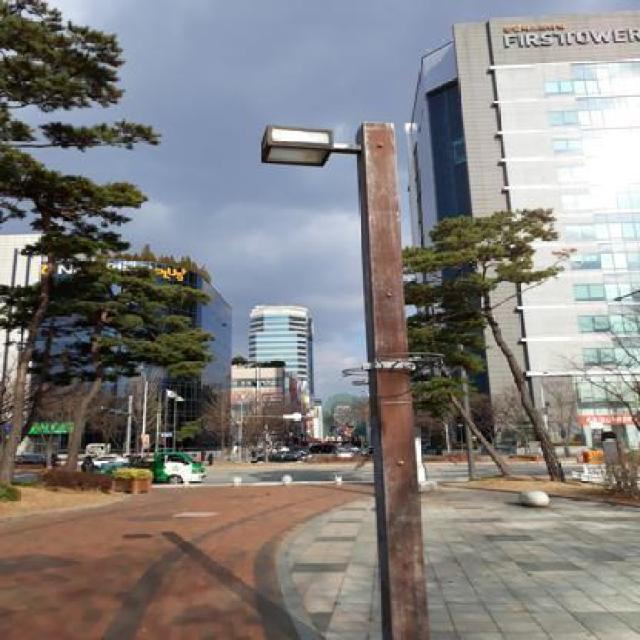pole: (349, 109, 433, 640)
